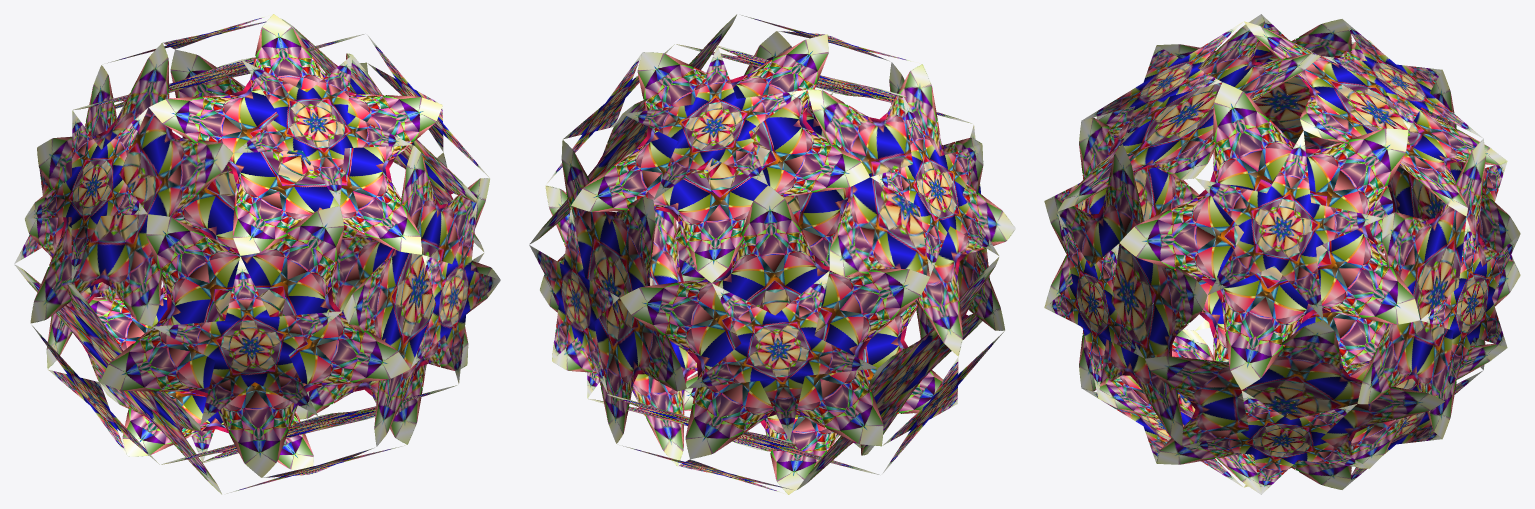
File: 12SnubDodecadodecahedron.gltf
3 renders of one model, left to right at view 1: azimuth 30°, elevation 25°; view 2: azimuth 150°, elevation 25°; view 3: azimuth 270°, elevation 25°, orthographic.
Visible parts, largest first — view 1: 7SnubDodecadodecahedron; view 2: 7SnubDodecadodecahedron; view 3: 7SnubDodecadodecahedron.
Part boxes in pixels (<box>): 7SnubDodecadodecahedron: <box>14,14,500,494</box>; 7SnubDodecadodecahedron: <box>529,14,1015,494</box>; 7SnubDodecadodecahedron: <box>1044,14,1520,494</box>.
Bounding box in the file's own units: 2.48 × 2.48 × 2.48.
Materials: 1 (1 with a texture image).
